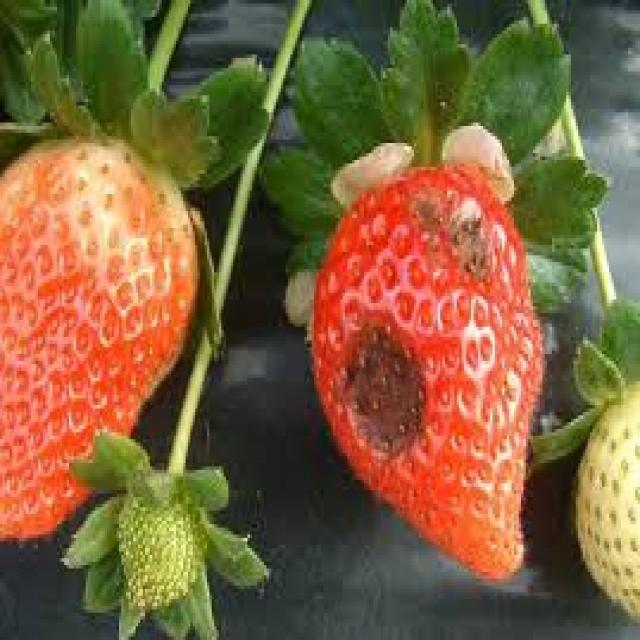Fruta sana: (1, 129, 207, 546)
Mancha negra Antracnosis: (303, 131, 533, 582)
